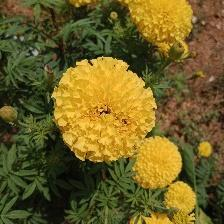marigold: (52, 57, 159, 168), (129, 1, 197, 47), (132, 134, 184, 189), (165, 181, 199, 219), (197, 139, 214, 162)
